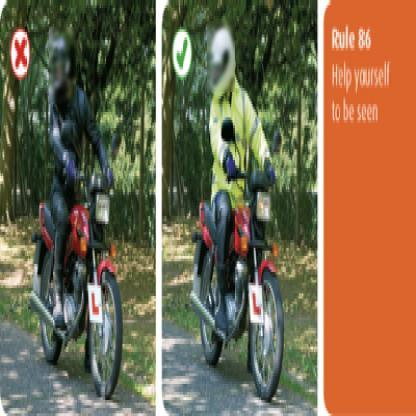With Helmet: (49, 27, 77, 104), (207, 22, 236, 94)
